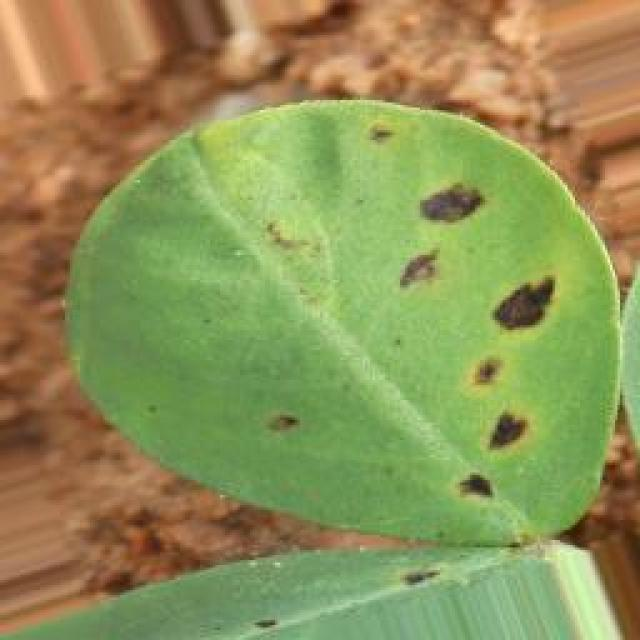Yellowish: (286, 125, 588, 514)
